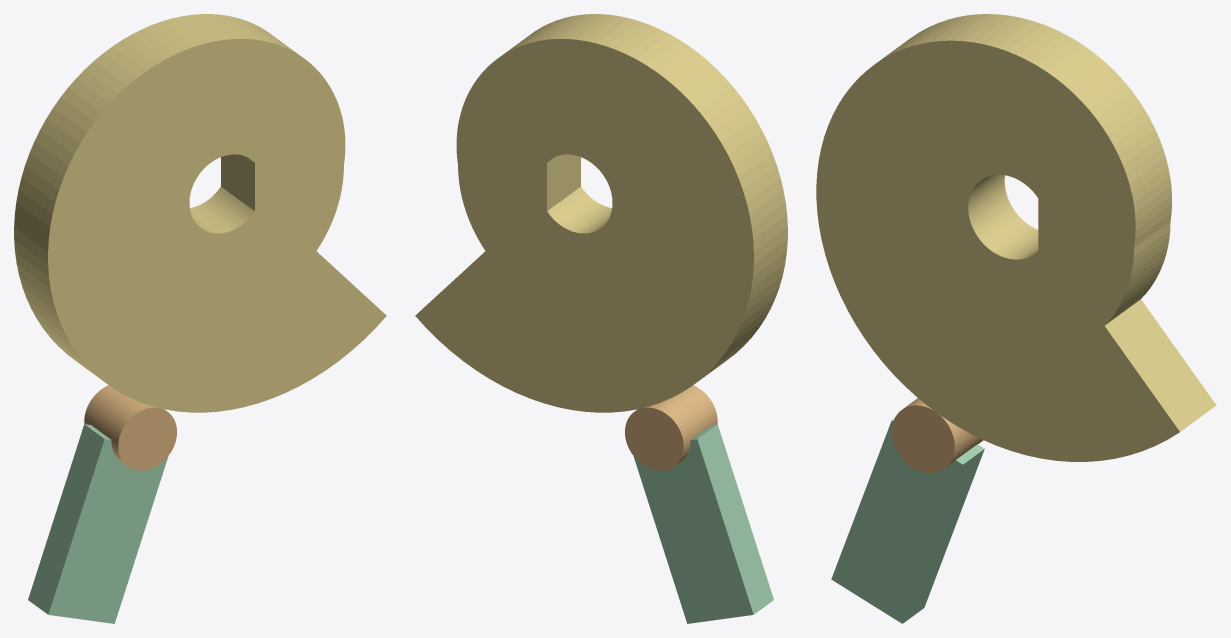
Rendered from snail_cam_demo.glb.
3 views of the same model, side by side, from view 1: azimuth 30°, elevation 25°; view 2: azimuth 150°, elevation 25°; view 3: azimuth 330°, elevation 25° (orthographic). The views are drawn at different scales.
Parts seen in each view (by area): view 1: snail_cam, follower_stem, roller; view 2: snail_cam, follower_stem, roller; view 3: snail_cam, follower_stem, roller.
Part boxes in pixels (bbox=[...]): snail_cam: bbox=[14, 14, 386, 412]; follower_stem: bbox=[28, 424, 168, 623]; roller: bbox=[84, 385, 176, 470]; snail_cam: bbox=[415, 14, 787, 412]; follower_stem: bbox=[633, 424, 773, 623]; roller: bbox=[625, 385, 717, 470]; snail_cam: bbox=[816, 14, 1216, 461]; follower_stem: bbox=[831, 418, 984, 623]; roller: bbox=[891, 398, 983, 473].
Size of the model in its own units: 28.79 by 45.87 by 5.
